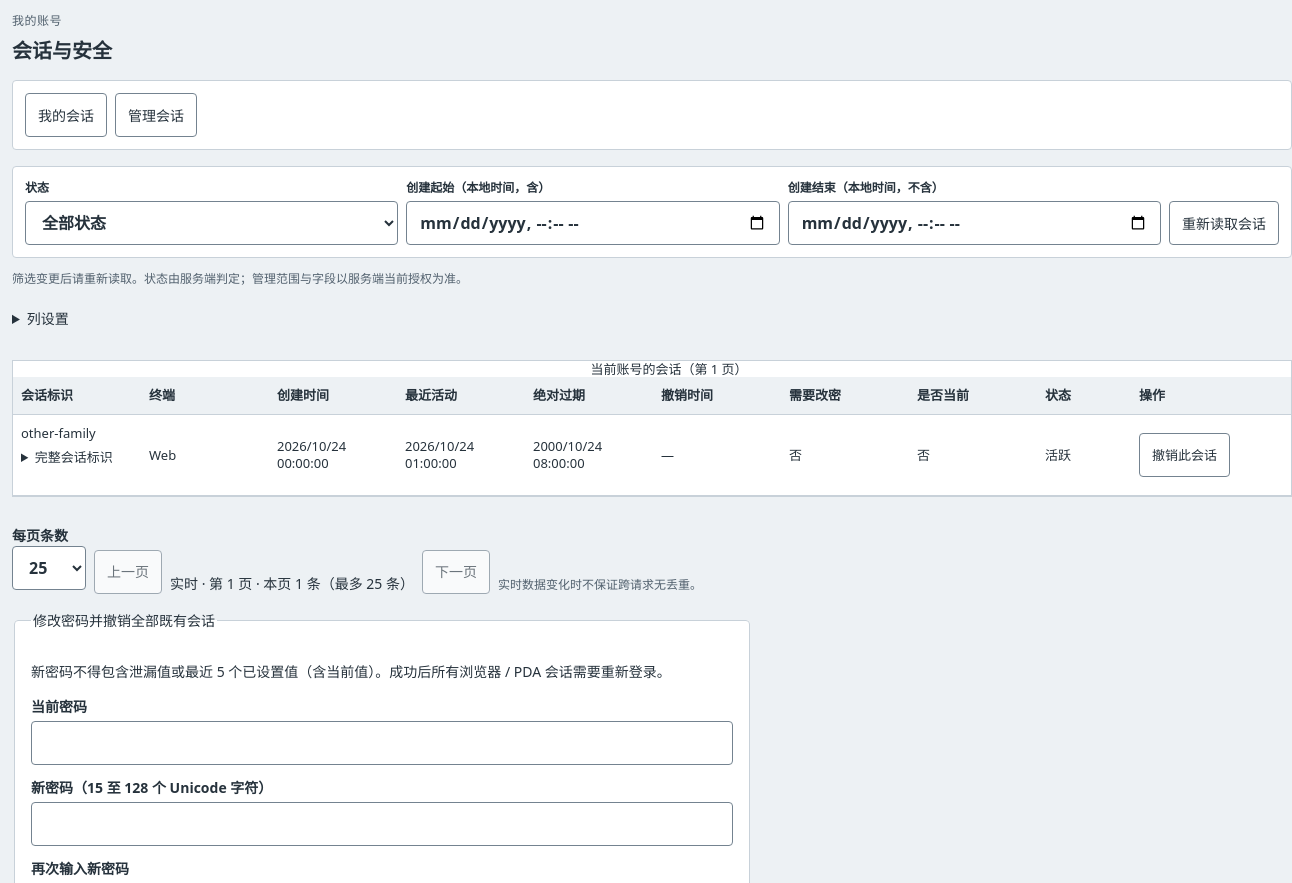
uses admin envelope and only projected fields in columns and details
Click the button with test id "admin-tab" at (156, 115), box [115,93,197,137]
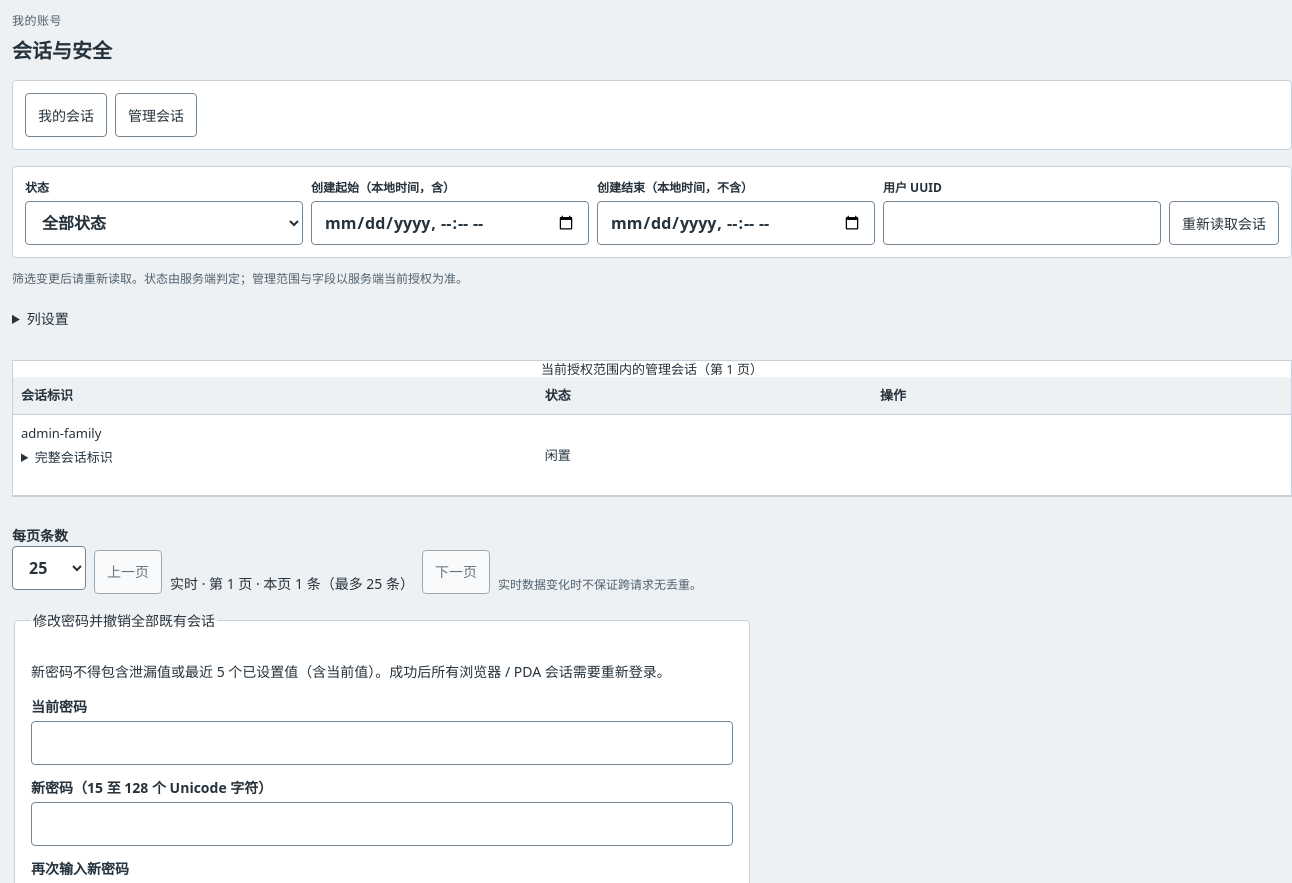
Check: the text "admin-family" is shown, box [21,424,101,442]
Check: the table shows "闲置", box [545,446,571,464]
